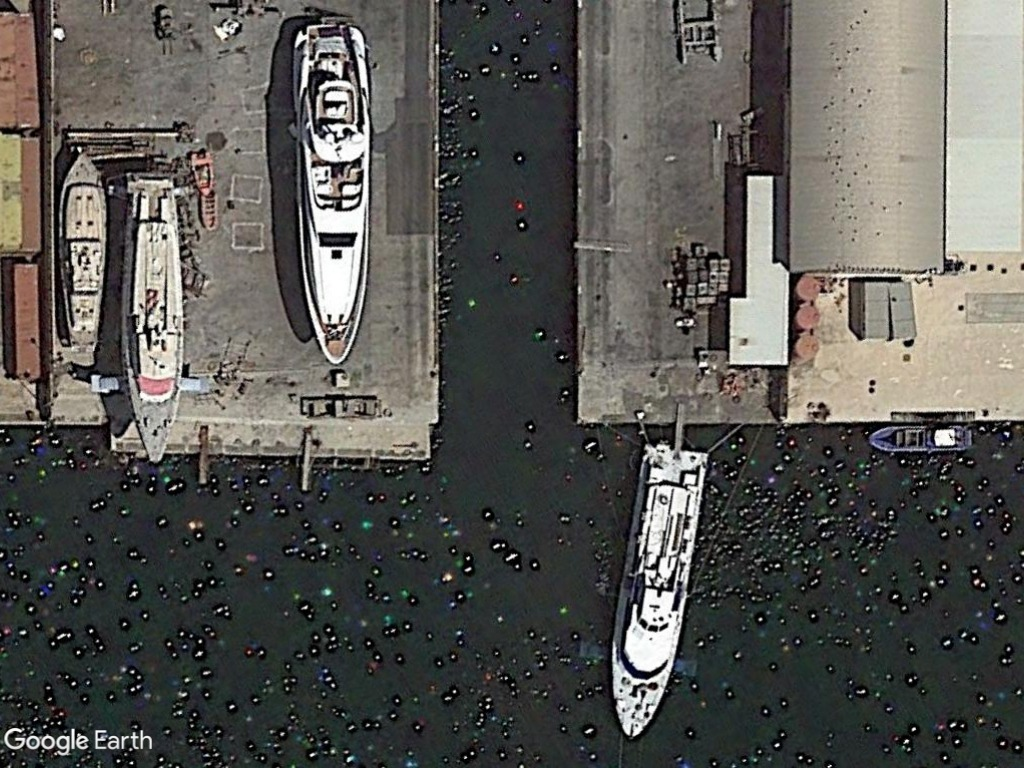boat: (598, 436, 714, 750), (290, 21, 378, 372), (116, 169, 188, 469), (50, 149, 112, 366), (865, 422, 979, 456)
